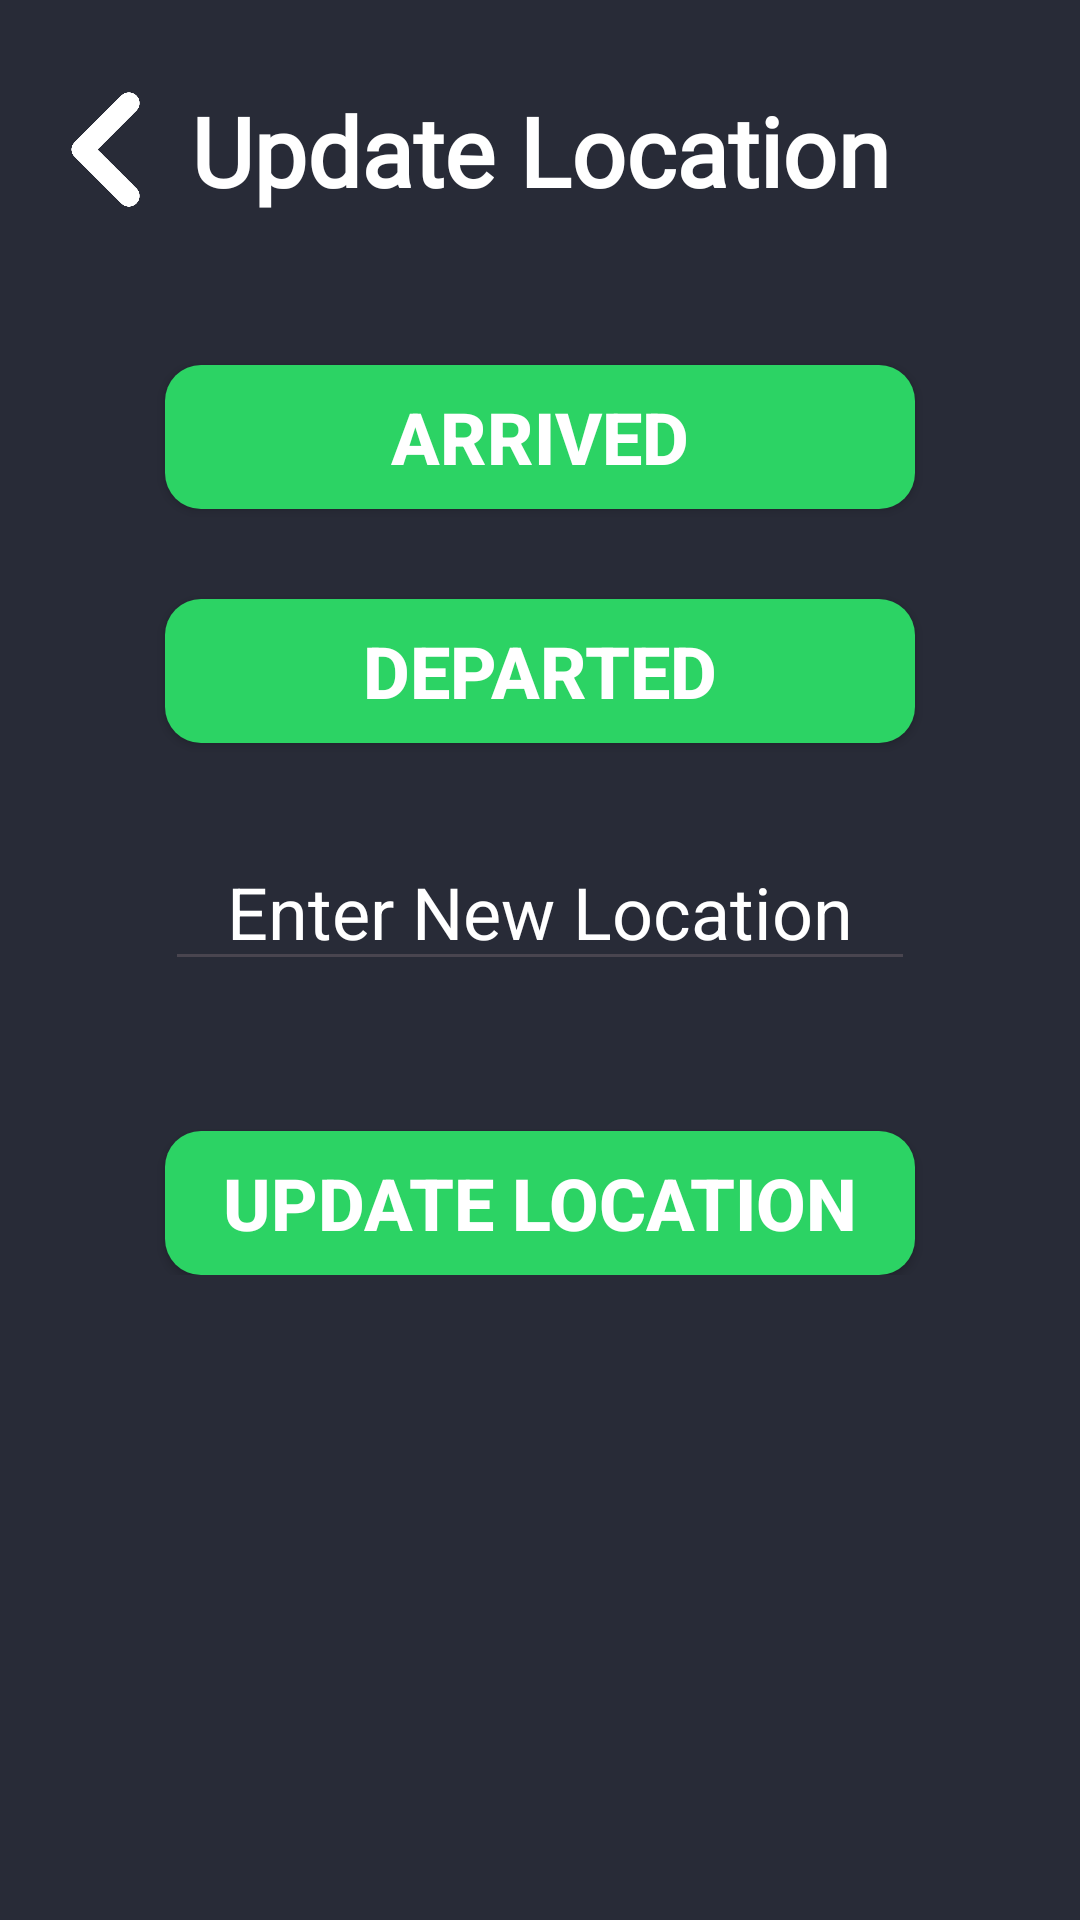

Icons on this 1080×1920 Android screen, each with its box as bbox=[x1, y1, x2, y2]:
back button: bbox=[71, 92, 140, 207]
